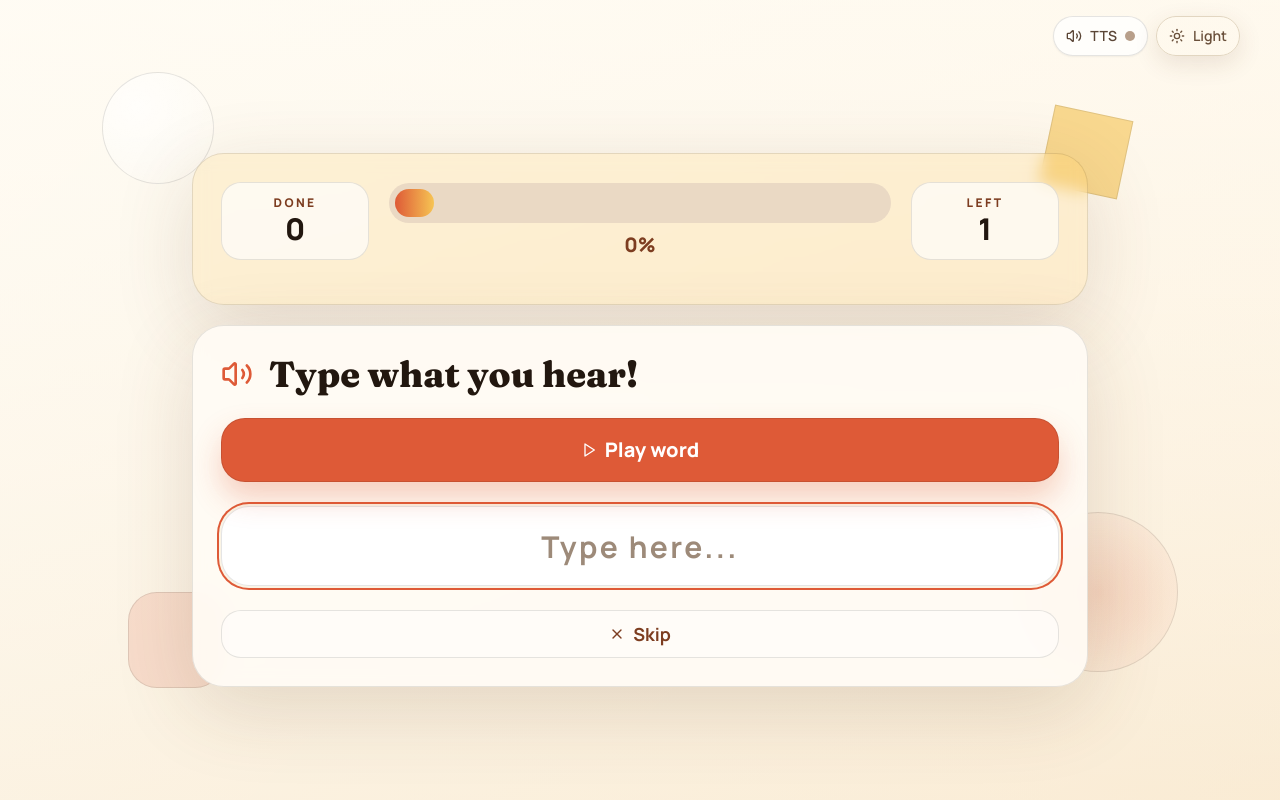
Test: QuestionScreen › shows retry feedback when user submits incorrect answer
Type "wrong" into the field with placeholder "Type here..." at (640, 546), box [221, 506, 1059, 586]
Then press Enter
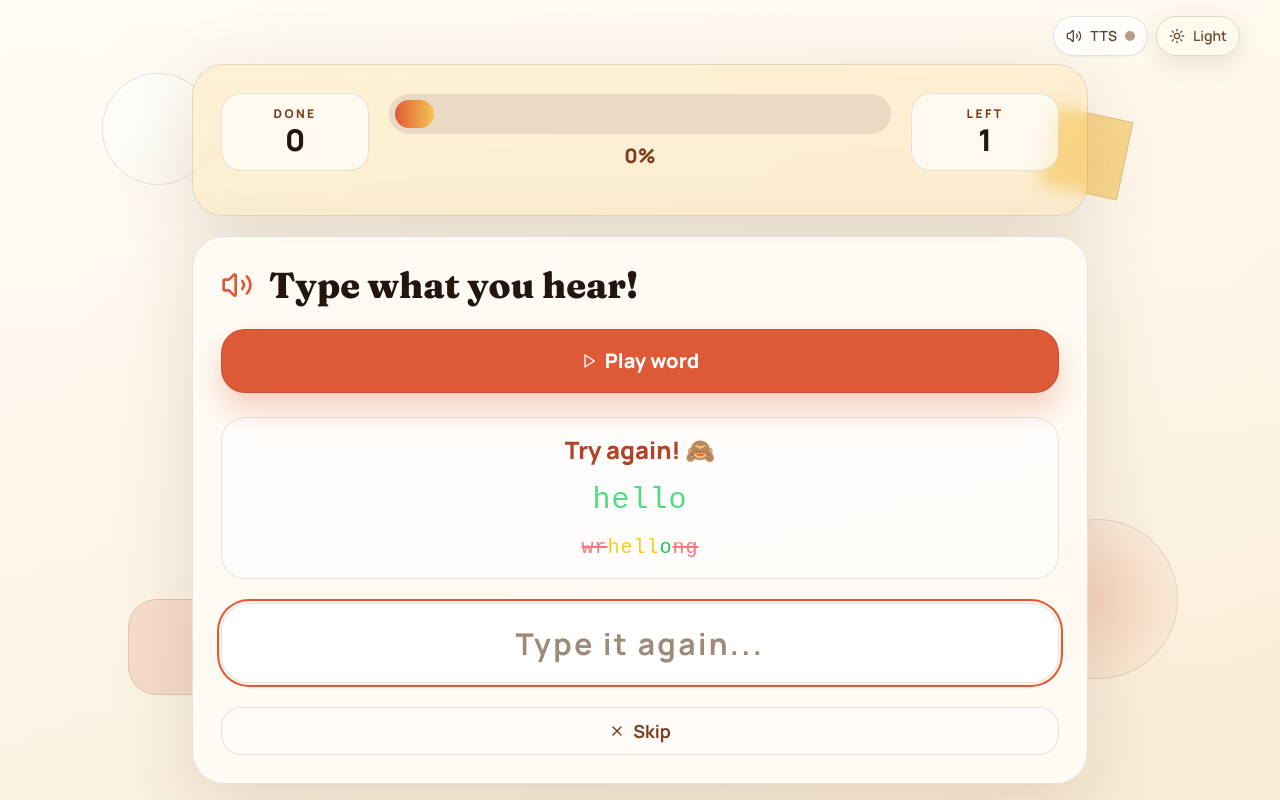
Expected: the field with placeholder "Type it again..." is empty, [221, 603, 1059, 683]
Expected: the text "Try again! 🙈" is shown, [565, 433, 715, 466]
Expected: the field with placeholder "Type it again..." is shown, [221, 603, 1059, 683]
